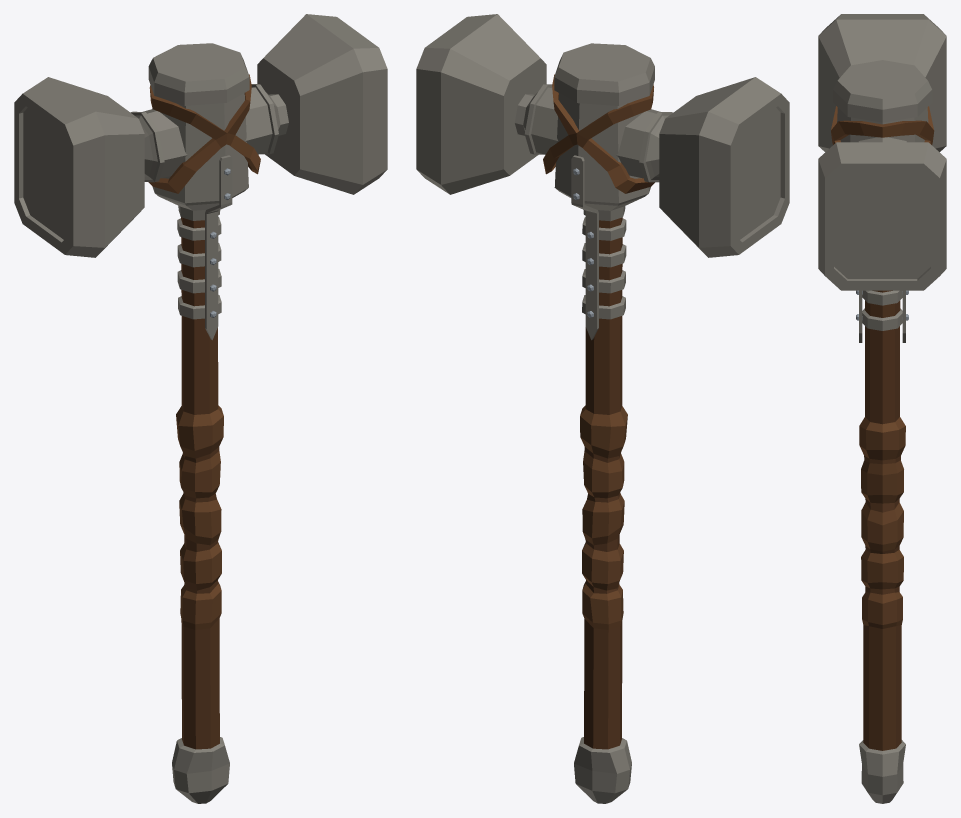
Rendered from cc0-hammer-double-lod1.glb.
3 renders of one model, left to right at view 1: azimuth 30°, elevation 25°; view 2: azimuth 150°, elevation 25°; view 3: azimuth 270°, elevation 25°, orthographic. The views are drawn at different scales.
Parts seen in each view (by area): view 1: part_0; view 2: part_0; view 3: part_0.
Boxes of the visible parts, x1,y1,x2,y2 form: part_0: [14, 14, 387, 803]; part_0: [416, 14, 789, 803]; part_0: [818, 14, 946, 803].
Size of the model in its own units: 2.22 by 4.97 by 0.8057.
